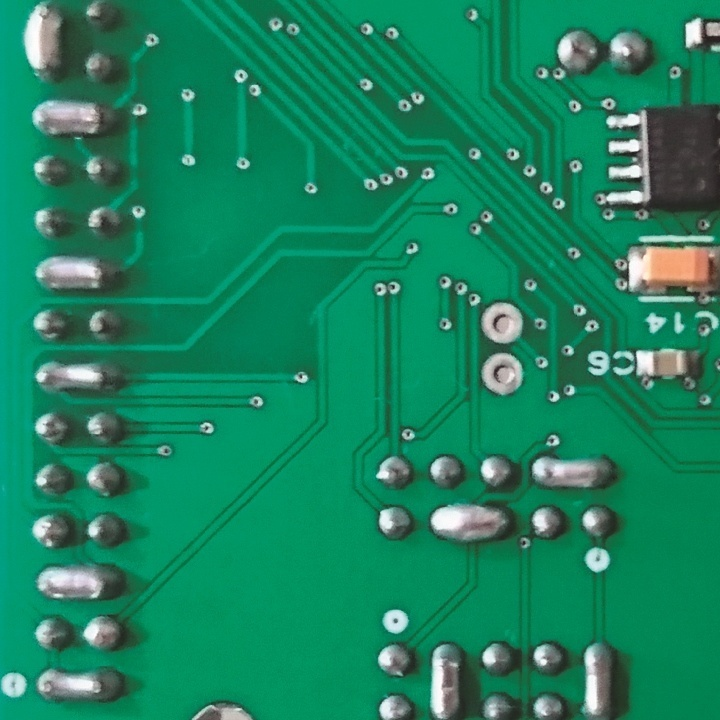F: (476, 301, 529, 345), (479, 351, 526, 400)
P: (32, 249, 122, 296), (21, 1, 67, 92), (425, 500, 516, 545), (27, 96, 122, 139), (32, 561, 129, 603), (530, 451, 618, 495), (33, 666, 127, 704), (426, 640, 467, 720), (32, 359, 125, 392), (580, 638, 616, 720)
